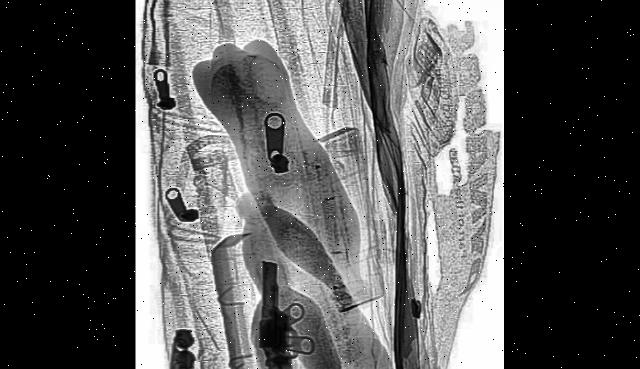Gun: (253, 259, 320, 369)
